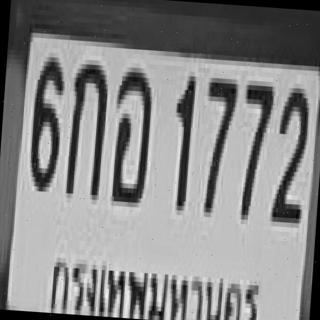A01: (64, 56, 108, 198)
A43: (108, 61, 152, 203)
N01: (168, 70, 194, 206)
N02: (270, 82, 308, 218)
N06: (27, 51, 64, 188)
N07: (198, 73, 237, 214), (236, 78, 273, 218)
P04: (44, 242, 262, 320)
